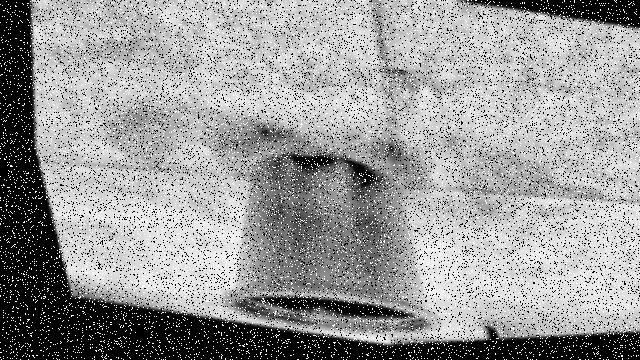pot: (223, 155, 440, 335)
